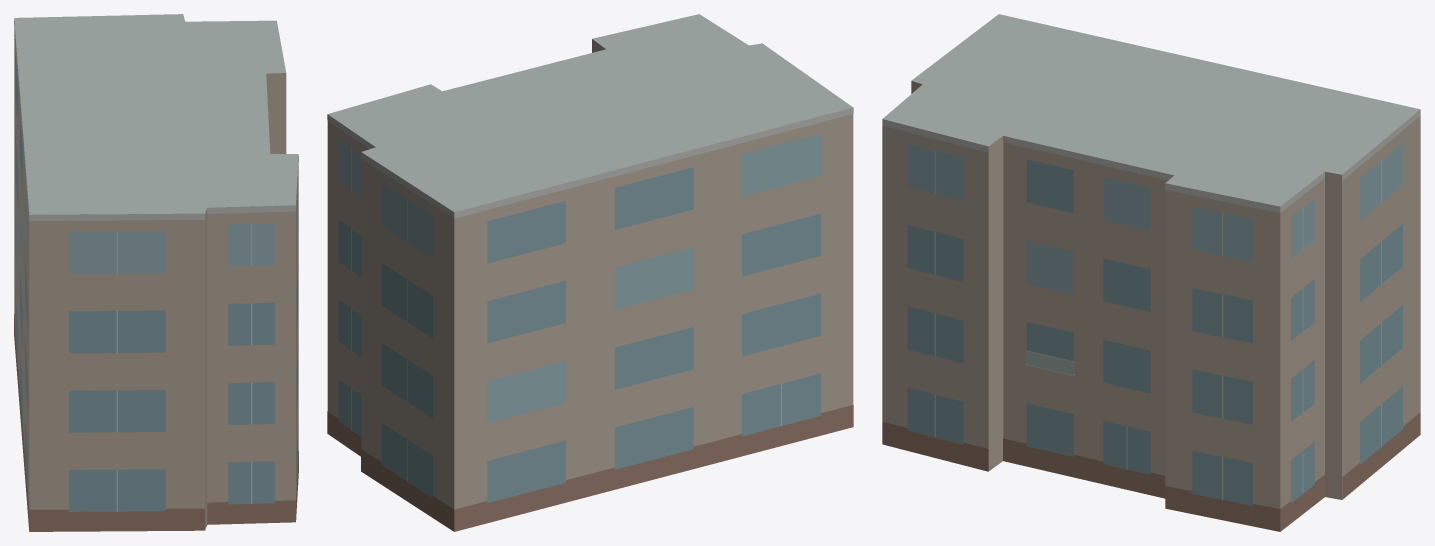
File: survey-upis-33025524.glb
3 renders of one model, left to right at view 1: azimuth 30°, elevation 25°; view 2: azimuth 150°, elevation 25°; view 3: azimuth 270°, elevation 25°, orthographic. The views are drawn at different scales.
Visible parts, largest first — view 1: survey-upis-33025524.tmp; view 2: survey-upis-33025524.tmp; view 3: survey-upis-33025524.tmp.
Part boxes in pixels (x1,y1,x2,y2): survey-upis-33025524.tmp: (14, 14, 298, 531); survey-upis-33025524.tmp: (327, 14, 853, 531); survey-upis-33025524.tmp: (882, 14, 1420, 531).
Size of the model in its own units: 15.7 by 12.36 by 18.55.
